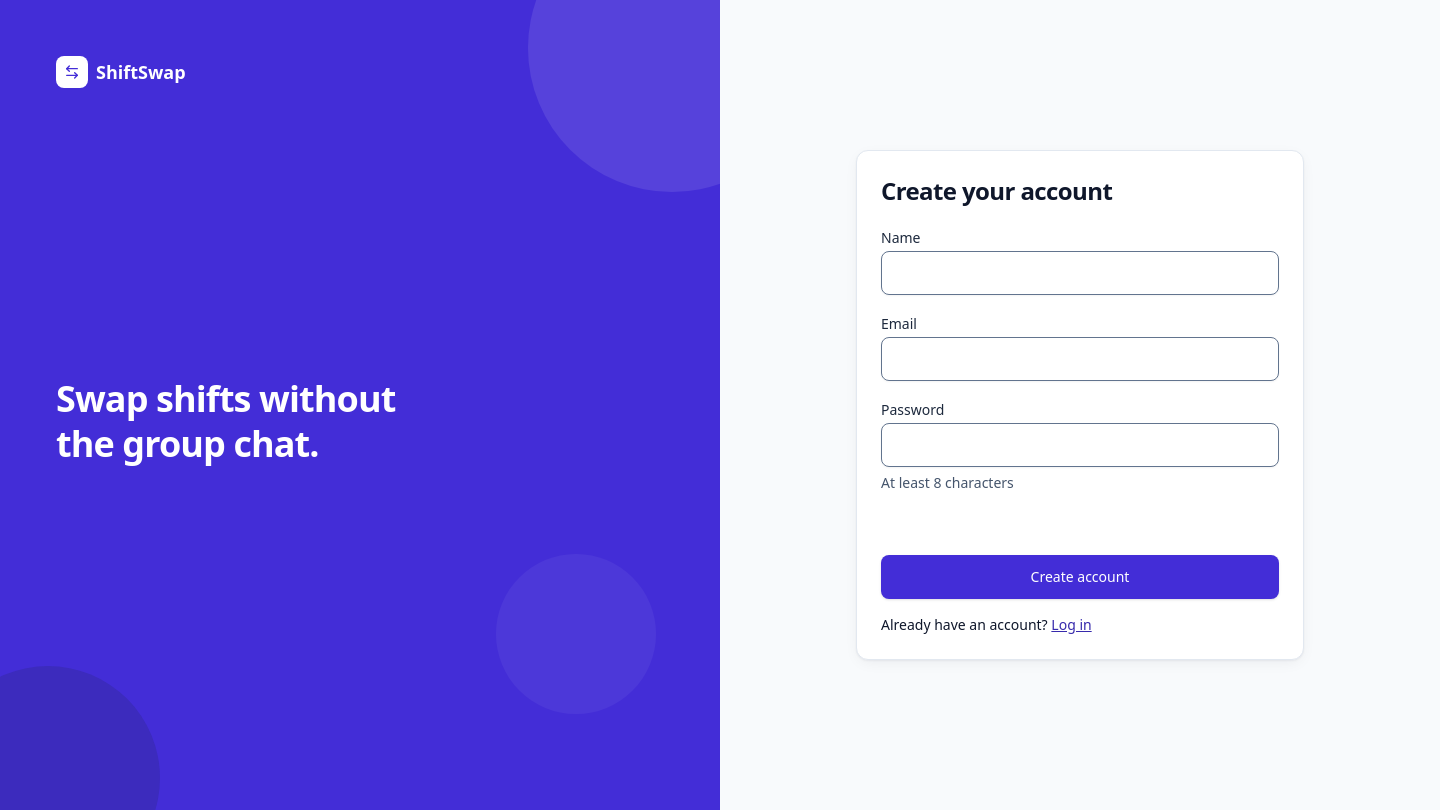
Test: SignUpPage › shows the already-have-an-account hint with a login link carrying next
Type "Anna Schmidt" into the field labelled "Name" at (1080, 273), box [881,251,1279,295]
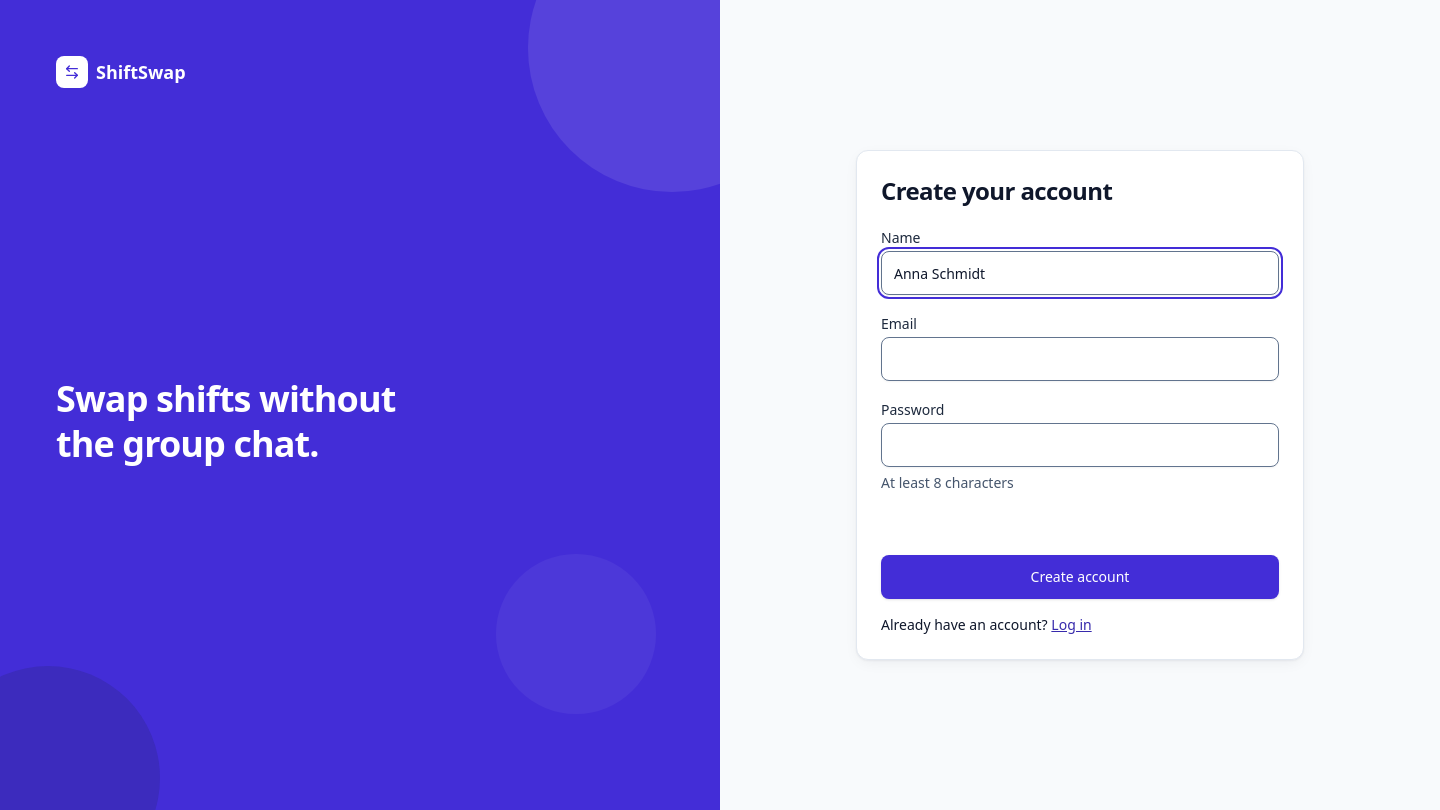
Type "Anna@ShiftSwap.test" into the field labelled "Email" at (1080, 359), box [881,337,1279,381]
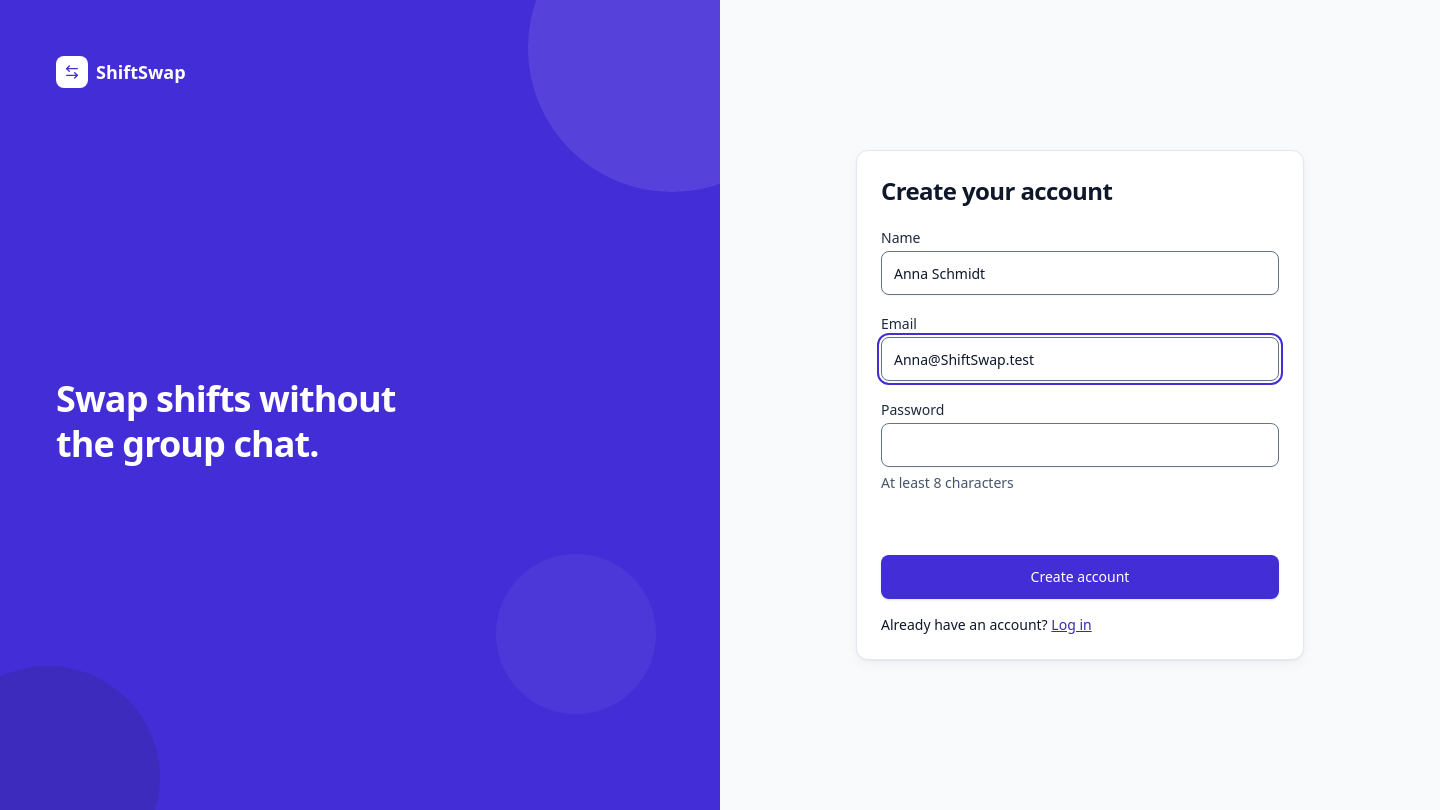
Type "longenough1" into the password field labelled "Password" at (1080, 445), box [881,423,1279,467]
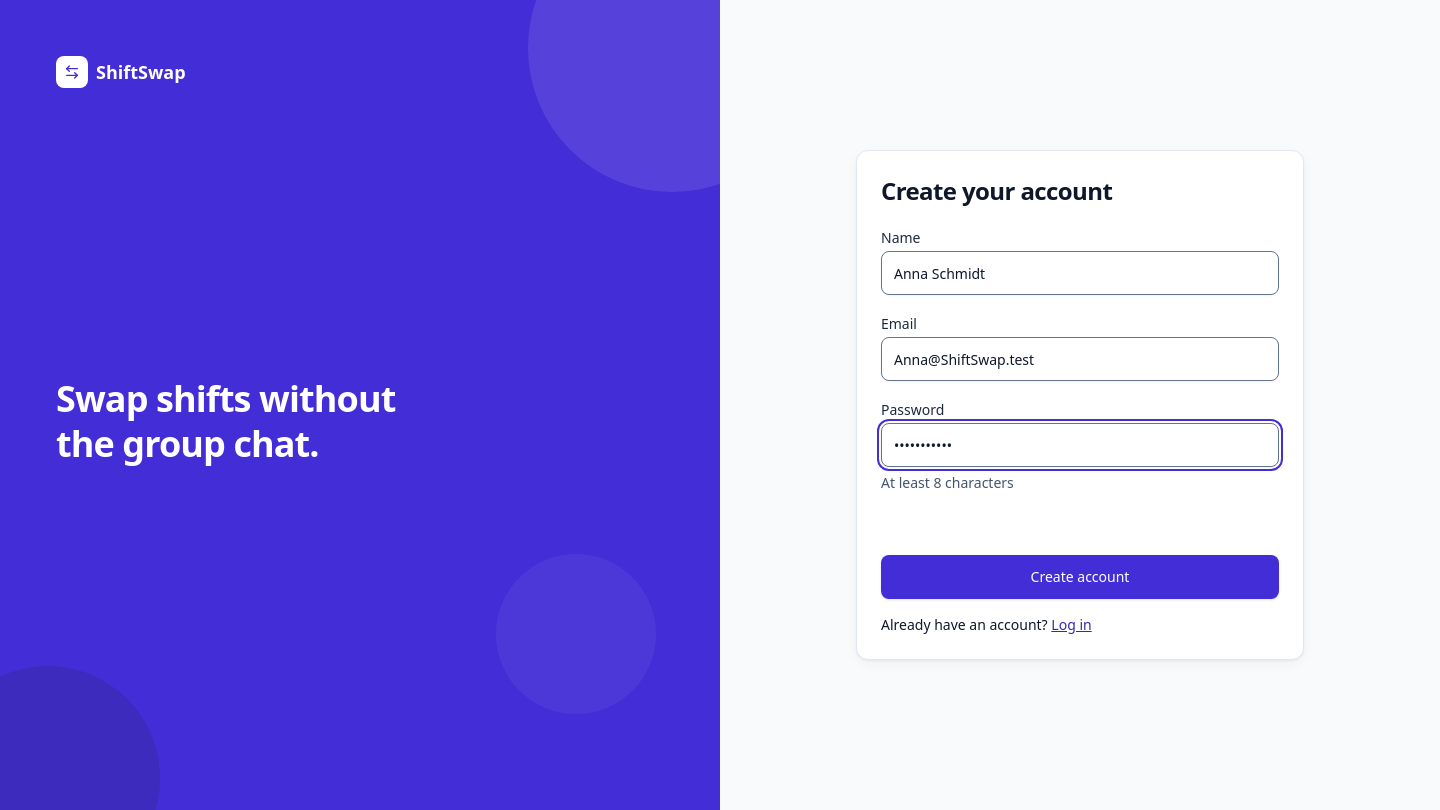
Click the button "Create account" at (1080, 577), box [881,555,1279,599]
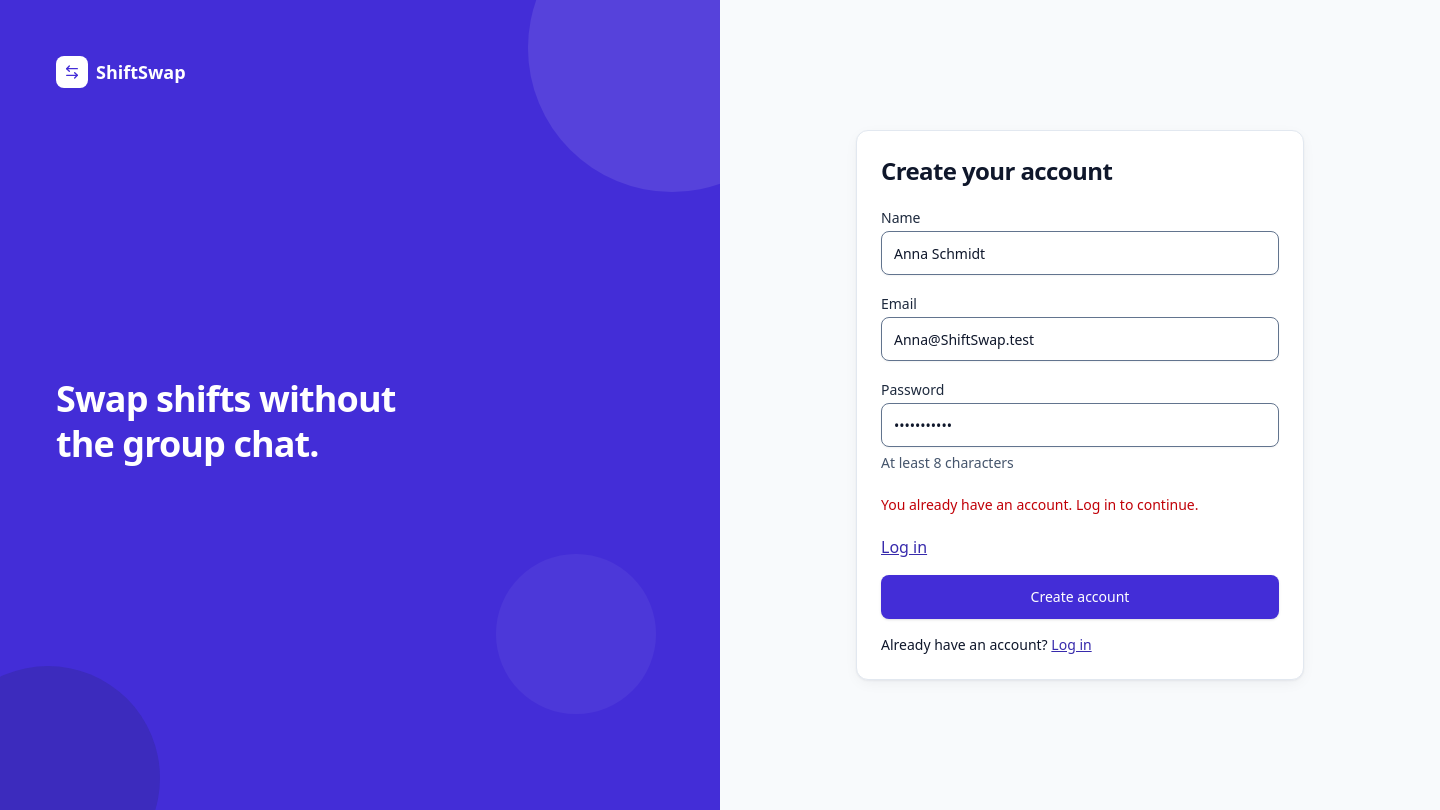
Now the message shows "You already have an account.", box [881,495,1198,514]
